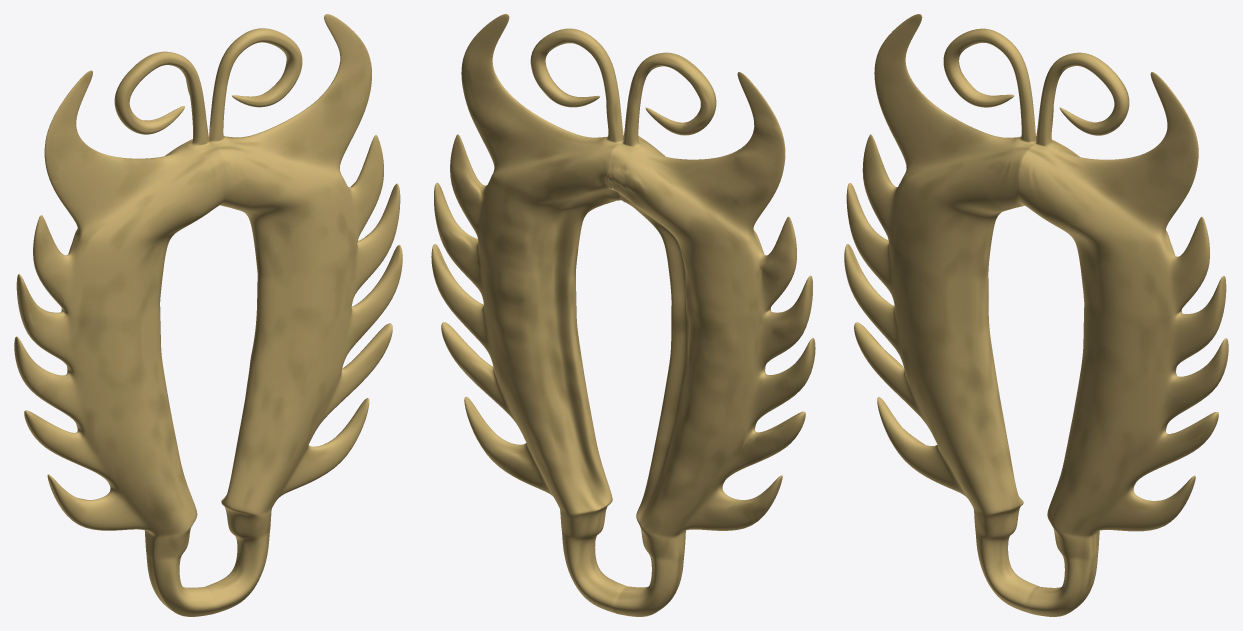
The model's file is taiganja-transformed.glb.
3 views of the same model, side by side, from view 1: azimuth 30°, elevation 25°; view 2: azimuth 150°, elevation 25°; view 3: azimuth 330°, elevation 25° (orthographic).
Parts seen in each view (by area): view 1: Cube; view 2: Cube; view 3: Cube.
Boxes of the visible parts, box(x1,y1,x2,y2) form: Cube: box(14, 14, 402, 616); Cube: box(431, 14, 815, 616); Cube: box(844, 14, 1228, 616).
Bounding box in the file's own units: 0.3173 × 0.4514 × 0.0494.
Materials: 1 (1 with a texture image).
